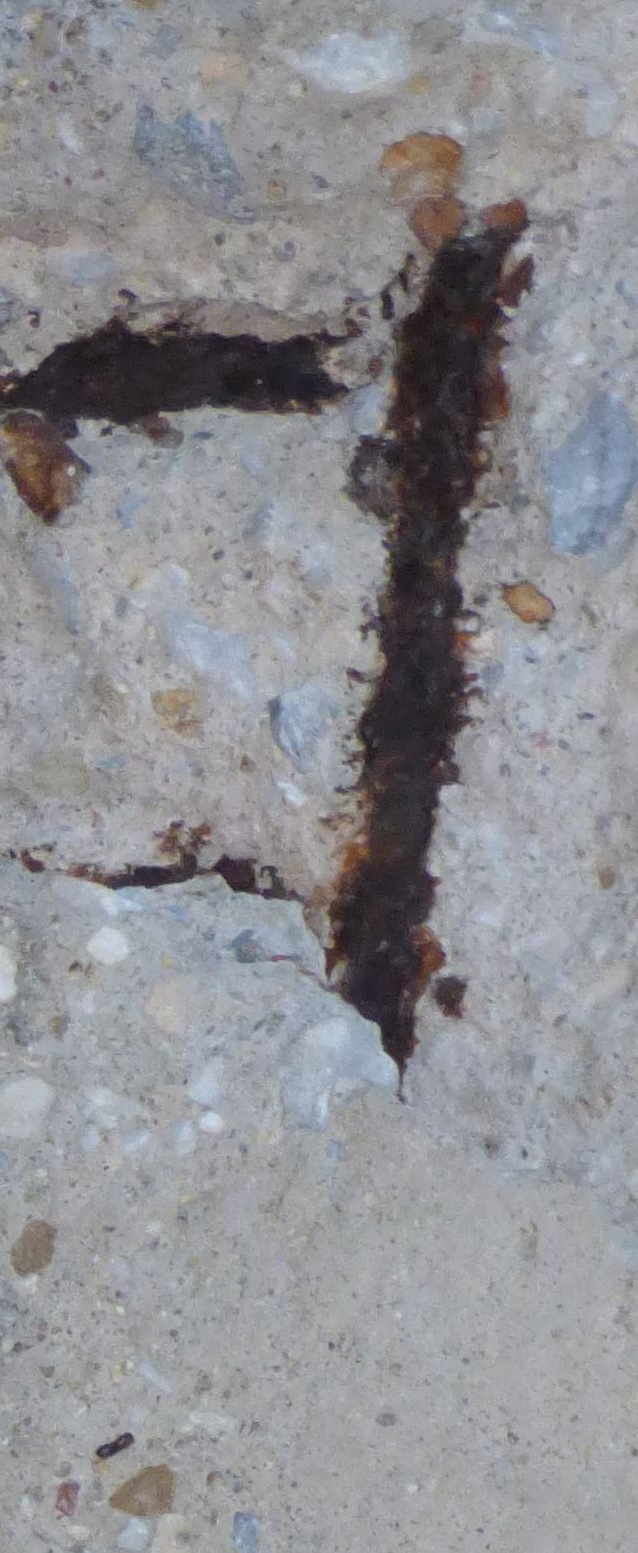Exposed reinforcement: (324, 231, 511, 1070), (1, 318, 353, 420)
